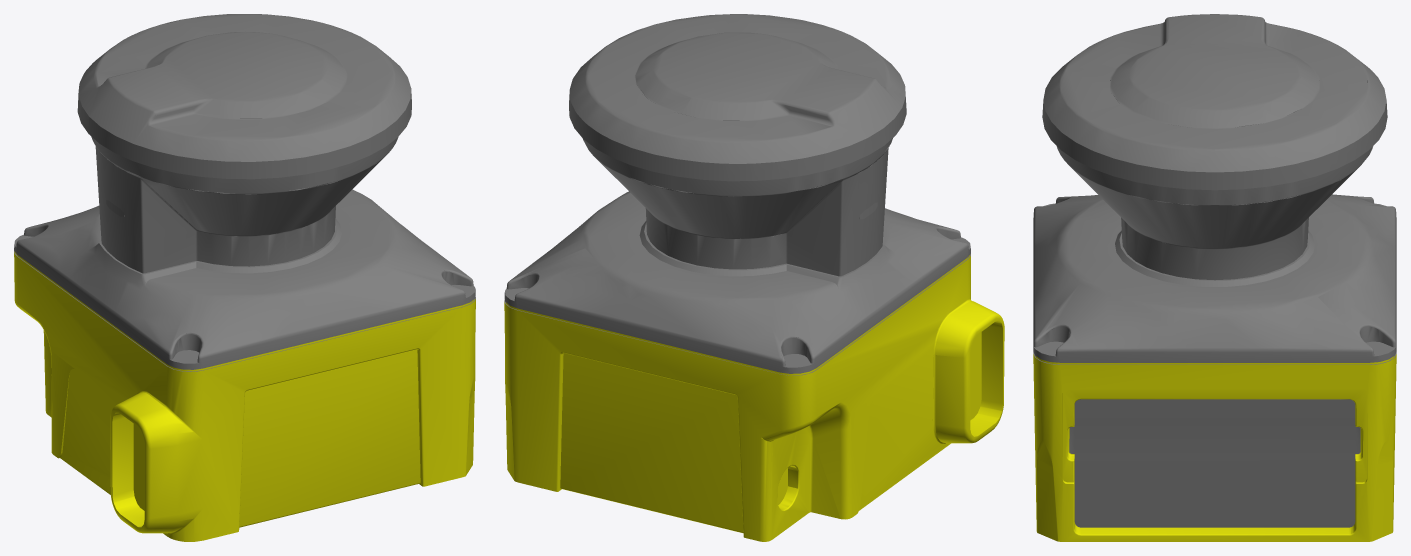
The model's file is UAM-05LP.dae.
3 views of the same model, side by side, from view 1: azimuth 30°, elevation 25°; view 2: azimuth 150°, elevation 25°; view 3: azimuth 270°, elevation 25° (orthographic). The views are drawn at different scales.
Parts seen in each view (by area): view 1: UAM-05LP; view 2: UAM-05LP; view 3: UAM-05LP.
Boxes of the visible parts, x1,y1,x2,y2 form: UAM-05LP: [14, 14, 475, 541]; UAM-05LP: [504, 14, 1004, 541]; UAM-05LP: [1033, 14, 1396, 541].
Bounding box in the file's own units: 0.0875 × 0.08 × 0.095.
